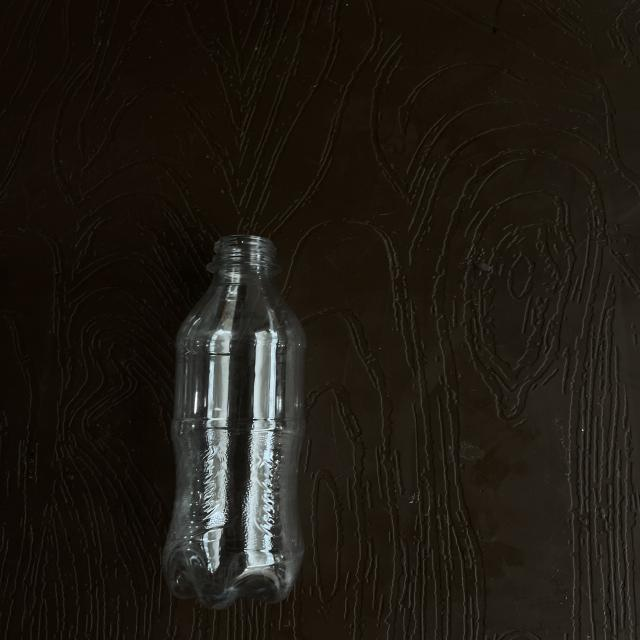PET_ClearBottle: (153, 227, 468, 607)
